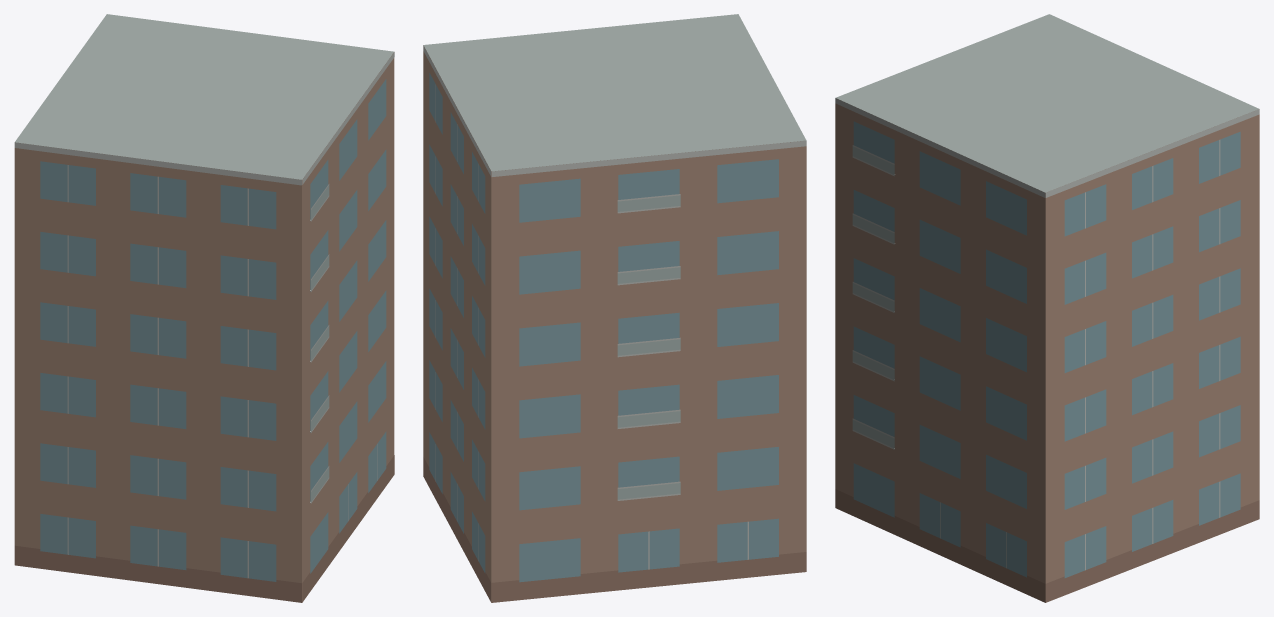
Rendered from survey-upis-33008650.glb.
3 views of the same model, side by side, from view 1: azimuth 30°, elevation 25°; view 2: azimuth 150°, elevation 25°; view 3: azimuth 270°, elevation 25° (orthographic). The views are drawn at different scales.
Visible parts, largest first — view 1: survey-upis-33008650.tmp; view 2: survey-upis-33008650.tmp; view 3: survey-upis-33008650.tmp.
Part boxes in pixels (box(x1,y1,x2,y2)): survey-upis-33008650.tmp: box(14, 14, 394, 602); survey-upis-33008650.tmp: box(423, 14, 806, 602); survey-upis-33008650.tmp: box(835, 14, 1259, 602).
Size of the model in its own units: 17.11 by 18.3 by 17.16.
